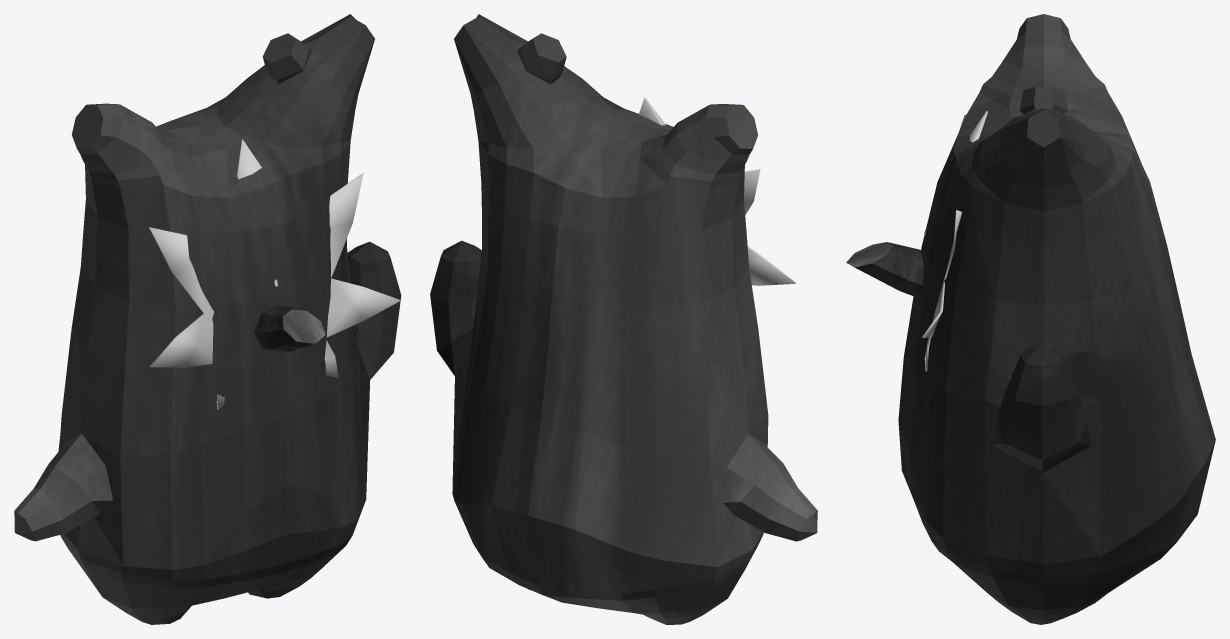
Rendered from frame_0041.obj.
3 renders of one model, left to right at view 1: azimuth 30°, elevation 25°; view 2: azimuth 150°, elevation 25°; view 3: azimuth 270°, elevation 25°, orthographic.
Visible parts, largest first — view 1: korok, leaf.003_柱体.013, nose.003_柱体.011; view 2: korok, leaf.003_柱体.013; view 3: korok, nose.003_柱体.011, leaf.003_柱体.013.
Part boxes in pixels (x1,y1,x2,y2): korok: (14,14,401,624); leaf.003_柱体.013: (149,139,400,409); nose.003_柱体.011: (254,305,325,352); korok: (430,14,817,624); leaf.003_柱体.013: (638,97,795,285); korok: (898,14,1215,624); nose.003_柱体.011: (846,242,923,298); leaf.003_柱体.013: (922,111,987,371).
Size of the model in its own units: 1.6 by 2.24 by 1.36.
